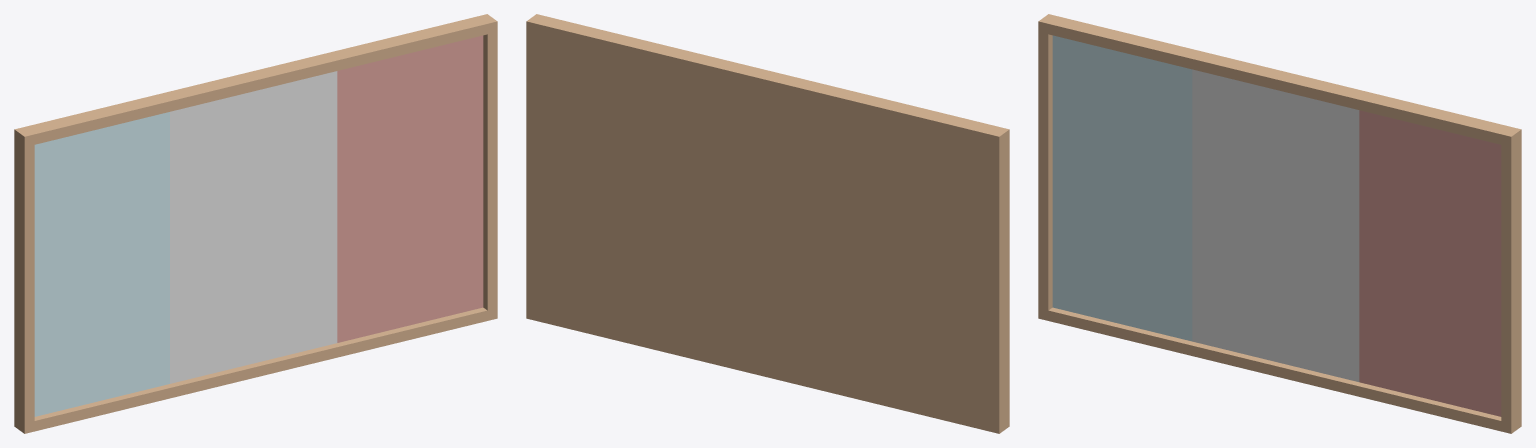
File: picture9.fbx
The picture shows the model from 3 angles, left to right: view 1: azimuth 30°, elevation 25°; view 2: azimuth 150°, elevation 25°; view 3: azimuth 330°, elevation 25°; orthographic projection.
Parts seen in each view (by area): view 1: Cube_22; view 2: Cube_22; view 3: Cube_22.
Boxes of the visible parts, left/top/right/bottom form: Cube_22: left=14, top=14, right=497, bottom=433; Cube_22: left=526, top=14, right=1009, bottom=433; Cube_22: left=1038, top=14, right=1521, bottom=433.
Bounding box in the file's own units: 42.49 × 25.51 × 1.58.
